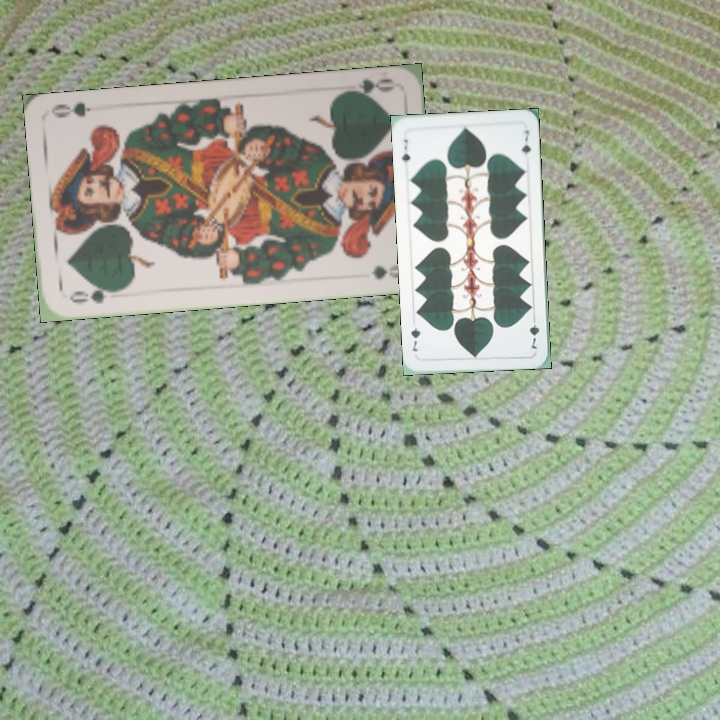G7: (526, 312, 542, 351), (398, 135, 413, 165)
GO: (338, 74, 397, 101), (65, 282, 122, 307)
